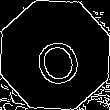O_N: (26, 24, 84, 86)
